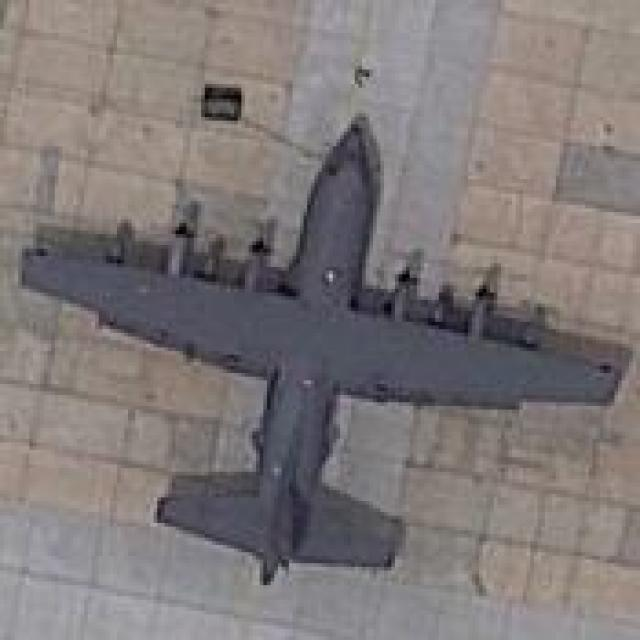C-130_TopDown: (11, 114, 634, 586)
